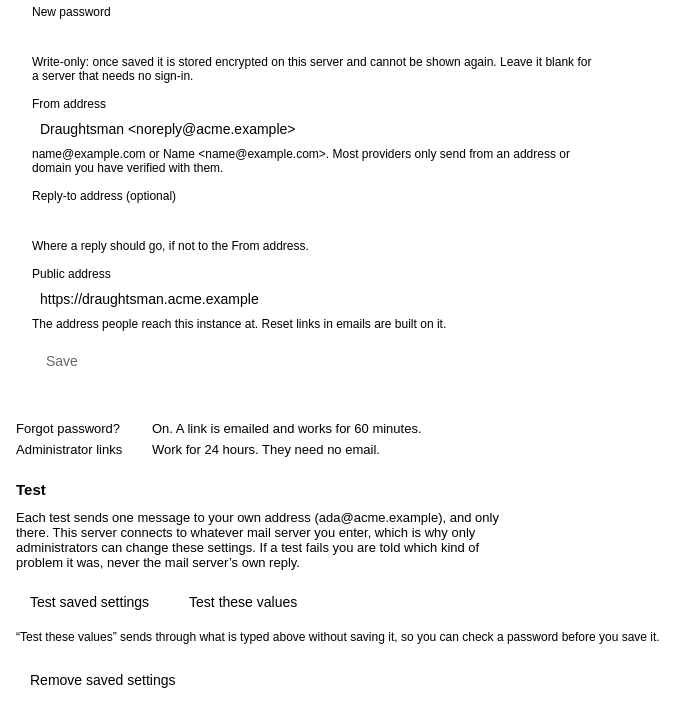
Test: EmailPage › testing › tests the saved settings: one POST with no body, the success sentence as a status
(page scrolled)
Click the button "Test saved settings".
click(90, 602)  # box [16, 586, 163, 618]
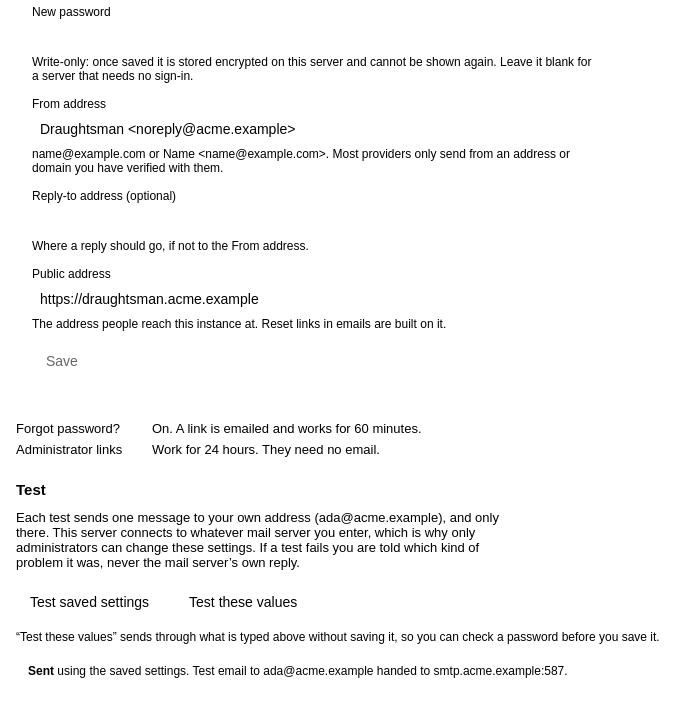
Check: the message with test id "email-test-result" shows "Sent using the saved settings. Test email to ada@acme.example handed to smtp.acme.example:587.", box [28, 664, 568, 678]
